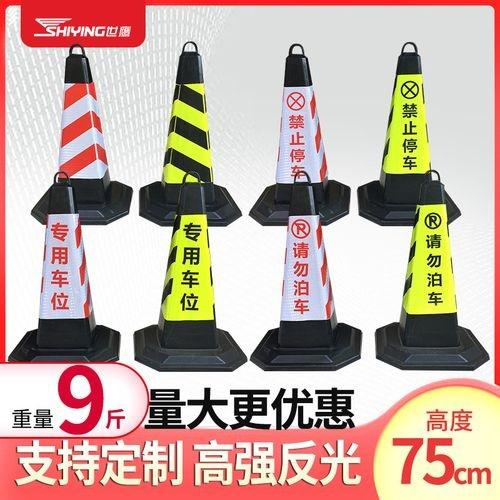cone_barrel: (142, 178, 235, 366), (384, 180, 476, 363), (147, 45, 232, 229), (23, 176, 108, 358), (264, 177, 345, 363), (44, 48, 123, 220), (367, 45, 441, 219), (264, 48, 337, 223)
